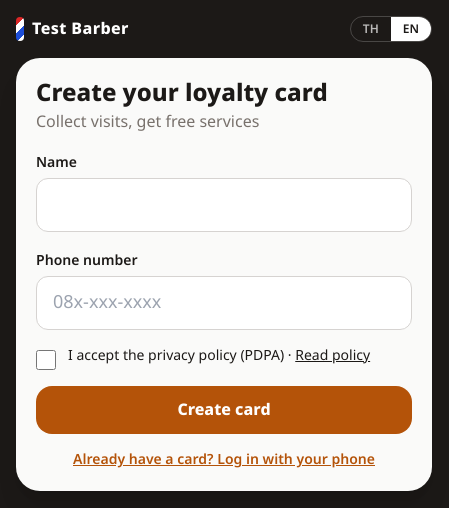
it: Stamp errors › a network error on the claim right after signup shows an error instead of spinning forever
Type "Somchai" into the field labelled "Name".
click(224, 205); type("Somchai")  # box [36,178,412,232]
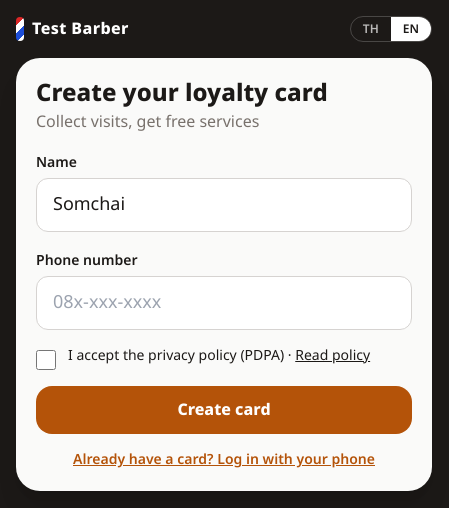
Type "0811111111" into the field labelled "Phone number".
click(224, 303); type("0811111111")  # box [36,276,412,330]
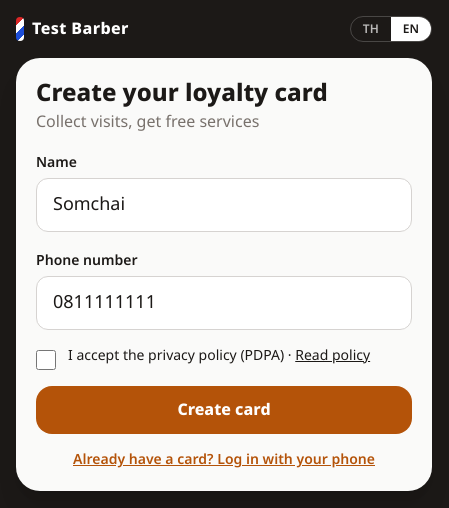
Click the checkbox.
click(46, 360)  # box [36,350,56,370]
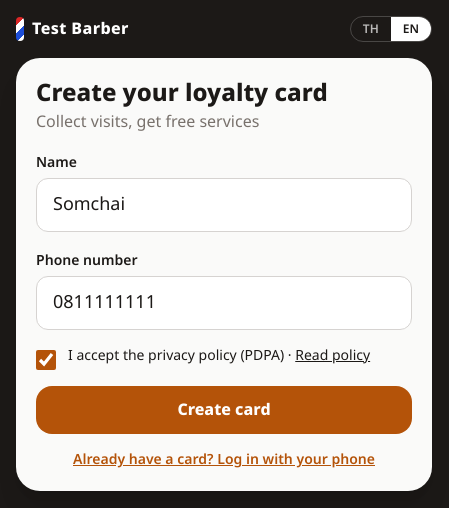
Click the button "Create card".
click(224, 410)  # box [36,386,412,434]
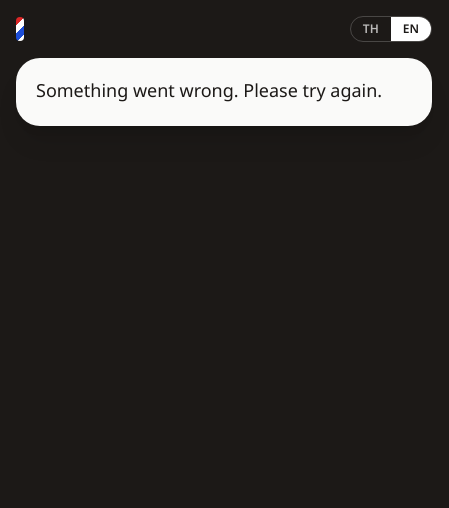
expect the text "Something went wrong. Please try again." is shown: met, box [36,78,412,106]
